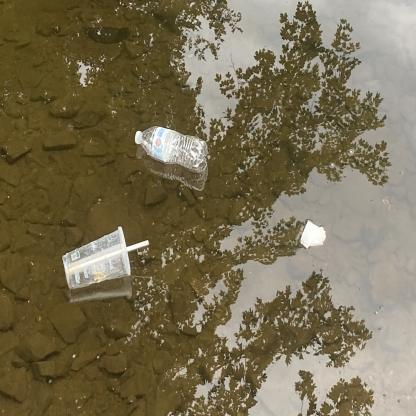trash: (58, 222, 154, 298), (132, 123, 211, 178), (294, 214, 330, 254)
